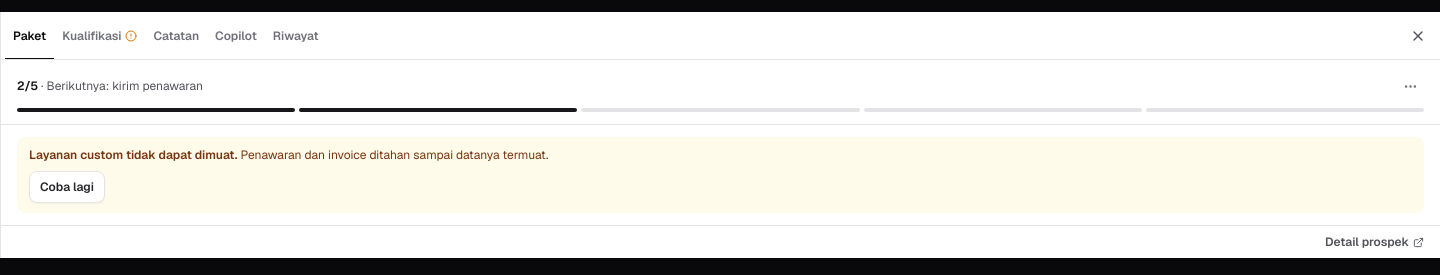
Test: Profil dan Copilot › data custom gagal dimuat: panel tidak berpura-pura tanpa custom dan penawaran/invoice ditahan
The image size is (1440, 275).
expect the message shows "Layanan custom tidak dapat dimuat": met, box [29, 147, 238, 163]
Click the button named "Tindakan lainnya". click: (1410, 86)
box: [1396, 72, 1424, 100]
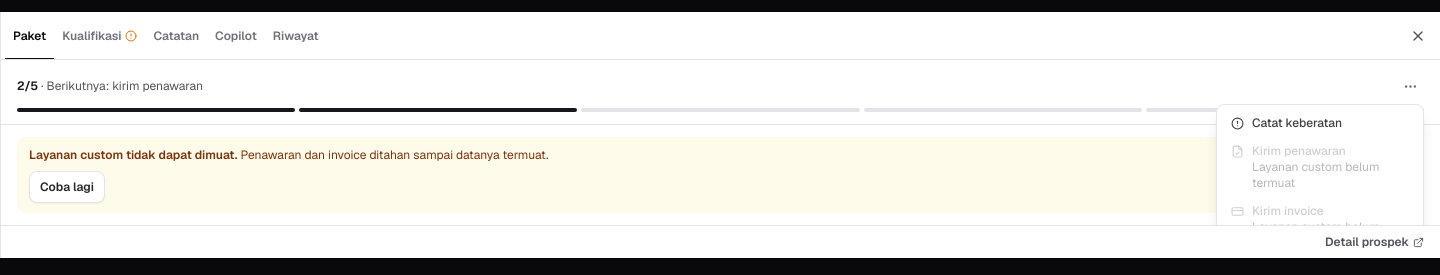
expect the button "Kirim penawaran Layanan custom belum termuat" is disabled: met, box [1221, 137, 1419, 197]
expect the text "Layanan custom belum termuat" is shown: met, box [1252, 159, 1380, 191]
